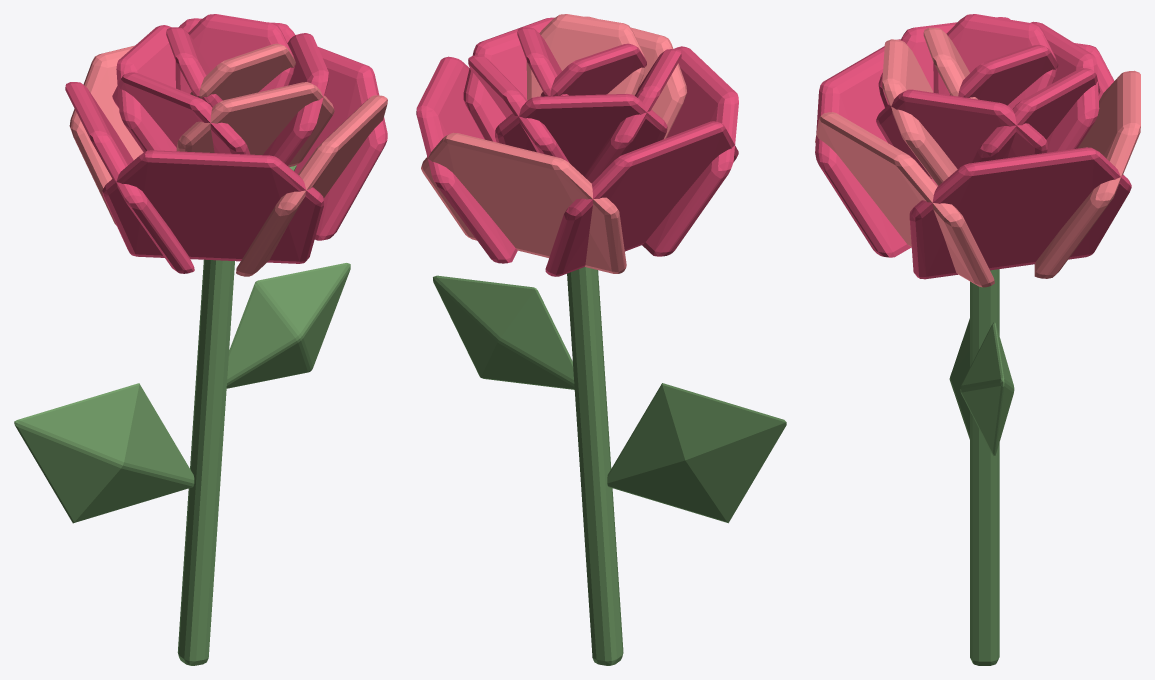
File: promise_rose.glb
The picture shows the model from 3 angles, left to right: view 1: azimuth 30°, elevation 25°; view 2: azimuth 150°, elevation 25°; view 3: azimuth 270°, elevation 25°; orthographic projection. The views are drawn at different scales.
Parts seen in each view (by area): view 1: rose_petal_0_2, rose_left_leaf, rose_stem, rose_right_leaf, rose_petal_0_4, rose_petal_1_2, rose_petal_0_3, rose_petal_0_1, rose_petal_1_1, rose_petal_1_0, rose_petal_2_2, rose_petal_0_0 (+3 smaller); view 2: rose_left_leaf, rose_petal_0_0, rose_stem, rose_petal_0_1, rose_right_leaf, rose_petal_1_0, rose_petal_0_2, rose_petal_0_4, rose_petal_2_1, rose_petal_1_3, rose_petal_2_0, rose_petal_1_1 (+3 smaller); view 3: rose_petal_0_4, rose_petal_0_3, rose_stem, rose_petal_0_2, rose_petal_1_3, rose_petal_0_0, rose_petal_2_0, rose_petal_1_2, rose_right_leaf, rose_petal_1_4, rose_petal_2_2, rose_petal_1_0 (+4 smaller).
Boxes of the visible parts, box(x1,y1,x2,y2) form: rose_petal_0_2: box(102, 150, 324, 263); rose_left_leaf: box(14, 383, 194, 523); rose_stem: box(177, 259, 234, 665); rose_right_leaf: box(226, 263, 350, 388); rose_petal_0_4: box(294, 47, 387, 240); rose_petal_1_2: box(176, 82, 334, 167); rose_petal_0_3: box(236, 95, 387, 276); rose_petal_0_1: box(65, 82, 194, 273); rose_petal_1_1: box(112, 72, 250, 154); rose_petal_1_0: box(116, 25, 176, 152); rose_petal_2_2: box(175, 14, 294, 93); rose_petal_0_0: box(69, 45, 143, 225); rose_left_leaf: box(607, 383, 786, 523); rose_petal_0_0: box(421, 132, 626, 273); rose_stem: box(567, 267, 623, 665); rose_petal_0_1: box(545, 121, 738, 276); rose_right_leaf: box(433, 275, 574, 389); rose_petal_1_0: box(495, 94, 667, 175); rose_petal_0_2: box(642, 46, 738, 256); rose_petal_0_4: box(416, 56, 517, 263); rose_petal_2_1: box(526, 14, 645, 100); rose_petal_1_3: box(463, 17, 554, 142); rose_petal_2_0: box(540, 43, 646, 96); rose_petal_1_1: box(584, 49, 681, 183); rose_petal_0_4: box(909, 147, 1131, 279); rose_petal_0_3: box(815, 112, 994, 287); rose_stem: box(970, 269, 999, 665); rose_petal_0_2: box(815, 39, 937, 257); rose_petal_1_3: box(876, 89, 1047, 178); rose_petal_0_0: box(1034, 70, 1140, 278); rose_petal_2_0: box(933, 14, 1056, 109); rose_petal_1_2: box(882, 39, 957, 185); rose_right_leaf: box(960, 322, 1014, 455); rose_petal_1_4: box(972, 68, 1100, 162); rose_petal_2_2: box(950, 44, 1058, 105); rose_petal_1_0: box(1030, 21, 1099, 152).
Bounding box in the file's own units: 0.3255 × 0.5476 × 0.2525.
